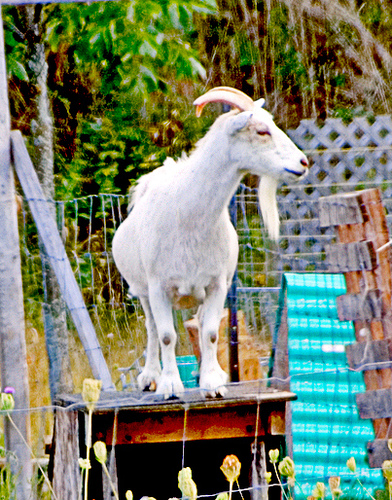goat: (109, 86, 311, 398)
